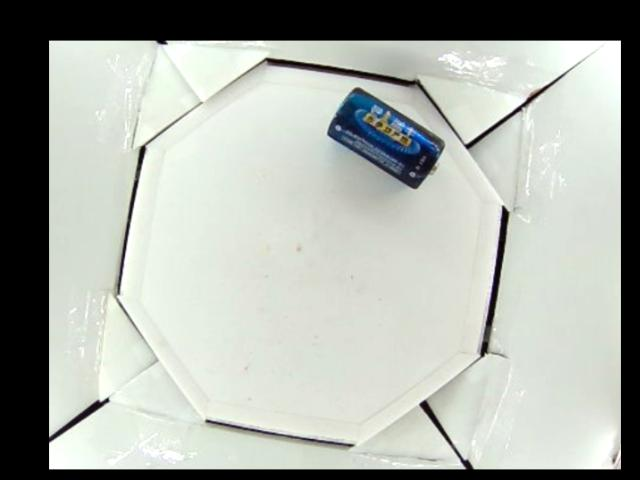Battery: (326, 84, 448, 190)
